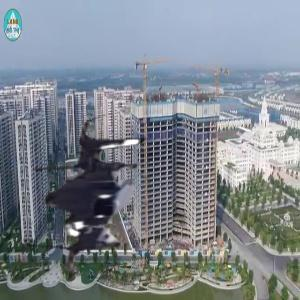drone: (5, 108, 184, 287)
